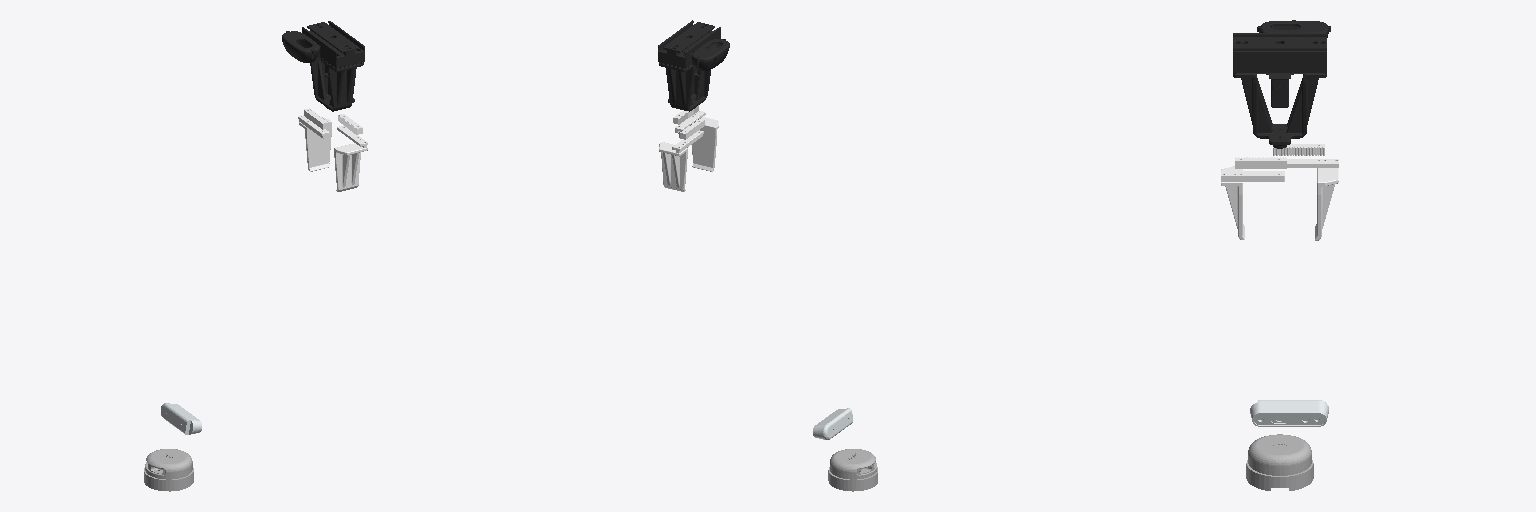
URDF robot description (robot_description):
<?xml version="1.0" encoding="utf-8"?>
<!-- This URDF was automatically created by SolidWorks to URDF Exporter! Originally created by Stephen Brawner (brawner@gmail.com) 
     Commit Version: 1.6.0-4-g7f85cfe  Build Version: 1.6.7995.38578
     For more information, please see http://wiki.ros.org/sw_urdf_exporter -->
<robot
  name="robot_description">
  <link name="base_footprint"/>

  <joint name="base_footprint_joint" type="fixed">
    <origin xyz="0 0 0.144" rpy="0 0 0" />
    <parent link="base_footprint" />
    <child link="base_link" />
  </joint>
  <link
    name="base_link">
    <inertial>
      <origin
        xyz="-0.19682 -0.0081466 0.074044"
        rpy="0 0 0" />
      <mass
        value="3.6752" />
      <inertia
        ixx="0.007798"
        ixy="2.3508E-05"
        ixz="-0.00067159"
        iyy="0.017951"
        iyz="-2.0373E-06"
        izz="0.023321" />
    </inertial>
    <visual>
      <origin
        xyz="0 0 0"
        rpy="0 0 0" />
      <geometry>
        <mesh
          filename="package://robot_description/meshes/base_link.STL" />
      </geometry>
      <material
        name="">
        <color
          rgba="0.52549 0.52549 0.52549 1" />
      </material>
    </visual>
    <collision>
      <origin
        xyz="0 0 0"
        rpy="0 0 0" />
      <geometry>
        <mesh
          filename="package://robot_description/meshes/base_link.STL" />
      </geometry>
    </collision>
  </link>
  <link
    name="plat_link">
    <inertial>
      <origin
        xyz="0.00099086 -1.3909E-06 0.20885"
        rpy="0 0 0" />
      <mass
        value="0.64412" />
      <inertia
        ixx="0.003989"
        ixy="4.8134E-10"
        ixz="8.3528E-06"
        iyy="0.0039716"
        iyz="1.7874E-10"
        izz="0.00091739" />
    </inertial>
    <visual>
      <origin
        xyz="0 0 0"
        rpy="0 0 0" />
      <geometry>
        <mesh
          filename="package://robot_description/meshes/plat_link.STL" />
      </geometry>
      <material
        name="">
        <color
          rgba="1 1 1 1" />
      </material>
    </visual>
    <collision>
      <origin
        xyz="0 0 0"
        rpy="0 0 0" />
      <geometry>
        <mesh
          filename="package://robot_description/meshes/plat_link.STL" />
      </geometry>
    </collision>
  </link>
  <joint
    name="plat_joint"
    type="revolute">
    <origin
      xyz="0 0 0"
      rpy="0 0 0" />
    <parent
      link="base_link" />
    <child
      link="plat_link" />
    <axis
      xyz="0 0 1" />
    <limit
      lower="-3.4034"
      upper="3.4034"
      effort="100"
      velocity="0.7854" />
  </joint>
  <link
    name="manip_link">
    <inertial>
      <origin
        xyz="0.076517 -0.0013059 0.097761"
        rpy="0 0 0" />
      <mass
        value="0.36819" />
      <inertia
        ixx="0.00035713"
        ixy="1.0767E-06"
        ixz="-2.4262E-06"
        iyy="0.00049034"
        iyz="-9.4946E-07"
        izz="0.00074443" />
    </inertial>
    <visual>
      <origin
        xyz="0 0 0"
        rpy="0 0 0" />
      <geometry>
        <mesh
          filename="package://robot_description/meshes/manip_link.STL" />
      </geometry>
      <material
        name="">
        <color
          rgba="0.78039 0.76078 0.74118 1" />
      </material>
    </visual>
    <collision>
      <origin
        xyz="0 0 0"
        rpy="0 0 0" />
      <geometry>
        <mesh
          filename="package://robot_description/meshes/manip_link.STL" />
      </geometry>
    </collision>
  </link>
  <joint
    name="manip_joint"
    type="prismatic">
    <origin
      xyz="0 0 0"
      rpy="0 0 0" />
    <parent
      link="plat_link" />
    <child
      link="manip_link" />
    <axis
      xyz="0 0 1" />
    <limit
      lower="0.075"
      upper="0.51"
      effort="100"
      velocity="0.0435" />
  </joint>
  <link
    name="pulso_link">
    <inertial>
      <origin
        xyz="0.0086943 -0.0041036 0.058037"
        rpy="0 0 0" />
      <mass
        value="0.21268" />
      <inertia
        ixx="0.00017045"
        ixy="5.2882E-06"
        ixz="-7.2239E-07"
        iyy="9.9587E-05"
        iyz="-4.4711E-07"
        izz="0.00016302" />
    </inertial>
    <visual>
      <origin
        xyz="0 0 0"
        rpy="0 0 0" />
      <geometry>
        <mesh
          filename="package://robot_description/meshes/pulso_link.STL" />
      </geometry>
      <material
        name="">
        <color
          rgba="0.22353 0.22353 0.22353 1" />
      </material>
    </visual>
    <collision>
      <origin
        xyz="0 0 0"
        rpy="0 0 0" />
      <geometry>
        <mesh
          filename="package://robot_description/meshes/pulso_link.STL" />
      </geometry>
    </collision>
  </link>
  <joint
    name="pulso_joint"
    type="revolute">
    <origin
      xyz="0.325 0 0.07557"
      rpy="-3.1416 0 3.14159" />
    <parent
      link="manip_link" />
    <child
      link="pulso_link" />
    <axis
      xyz="0 0 1" />
    <limit
      lower="-1.5708"
      upper="1.5708"
      effort="100"
      velocity="1.5708" />
  </joint>
  <link
    name="garra1_link">
    <inertial>
      <origin
        xyz="-0.0011844 -0.041008 0.044682"
        rpy="0 0 0" />
      <mass
        value="0.038406" />
      <inertia
        ixx="3.7119E-05"
        ixy="1.1462E-06"
        ixz="-2.0278E-06"
        iyy="3.7808E-05"
        iyz="1.4488E-06"
        izz="8.151E-06" />
    </inertial>
    <visual>
      <origin
        xyz="0 0 0"
        rpy="0 0 0" />
      <geometry>
        <mesh
          filename="package://robot_description/meshes/garra1_link.STL" />
      </geometry>
      <material
        name="">
        <color
          rgba="1 1 1 1" />
      </material>
    </visual>
    <collision>
      <origin
        xyz="0 0 0"
        rpy="0 0 0" />
      <geometry>
        <mesh
          filename="package://robot_description/meshes/garra1_link.STL" />
      </geometry>
    </collision>
  </link>
  <joint
    name="garra1_joint"
    type="prismatic">
    <origin
      xyz="0 0 0.0794"
      rpy="0 0 0" />
    <parent
      link="pulso_link" />
    <child
      link="garra1_link" />
    <axis
      xyz="0 1 0" />
    <limit
      lower="-0.035"
      upper="0"
      effort="100"
      velocity="0.035" />
  </joint>
  <link
    name="garra2_link">
    <inertial>
      <origin
        xyz="0.0011844 0.041111 0.044682"
        rpy="0 0 0" />
      <mass
        value="0.038406" />
      <inertia
        ixx="3.7119E-05"
        ixy="1.1462E-06"
        ixz="2.0278E-06"
        iyy="3.7808E-05"
        iyz="-1.4488E-06"
        izz="8.151E-06" />
    </inertial>
    <visual>
      <origin
        xyz="0 0 0"
        rpy="0 0 0" />
      <geometry>
        <mesh
          filename="package://robot_description/meshes/garra2_link.STL" />
      </geometry>
      <material
        name="">
        <color
          rgba="1 1 1 1" />
      </material>
    </visual>
    <collision>
      <origin
        xyz="0 0 0"
        rpy="0 0 0" />
      <geometry>
        <mesh
          filename="package://robot_description/meshes/garra2_link.STL" />
      </geometry>
    </collision>
  </link>
  <joint
    name="garra2_joint"
    type="prismatic">
    <origin
      xyz="0 0 0.0794"
      rpy="0 0 0" />
    <parent
      link="pulso_link" />
    <child
      link="garra2_link" />
    <axis
      xyz="0 1 0" />
    <limit
      lower="0"
      upper="0.035"
      effort="100"
      velocity="0.035" />
  </joint>
  <link
    name="camera_link">
    <inertial>
      <origin
        xyz="-0.013512 0.0009328 6.2629E-07"
        rpy="0 0 0" />
      <mass
        value="0.087339" />
      <inertia
        ixx="5.2376E-05"
        ixy="5.8423E-07"
        ixz="1.5739E-12"
        iyy="7.6539E-06"
        iyz="-8.6011E-11"
        izz="5.2721E-05" />
    </inertial>
    <visual>
      <origin
        xyz="0 0 0"
        rpy="0 0 0" />
      <geometry>
        <mesh
          filename="package://robot_description/meshes/realsense_link.STL" />
      </geometry>
      <material
        name="">
        <color
          rgba="0.89804 0.92157 0.92941 1" />
      </material>
    </visual>
    <collision>
      <origin
        xyz="0 0 0"
        rpy="0 0 0" />
      <geometry>
        <mesh
          filename="package://robot_description/meshes/realsense_link.STL" />
      </geometry>
    </collision>
  </link>
  <joint
    name="camera_joint"
    type="fixed">
    <origin
      xyz="0.072916 0 -0.058189"
      rpy="0 0.17453 0" />
    <parent
      link="base_link" />
    <child
      link="camera_link" />
    <axis
      xyz="0 0 0" />
  </joint>

  <link
    name="laser">
    <inertial>
      <origin
        xyz="-0.00056545 1.4938E-05 0.011701"
        rpy="0 0 1.57" />
      <mass
        value="0.16538" />
      <inertia
        ixx="7.8865E-05"
        ixy="-4.8472E-08"
        ixz="-2.1848E-06"
        iyy="7.519E-05"
        iyz="2.886E-08"
        izz="0.00010995" />
    </inertial>
    <visual>
      <origin
        xyz="0 0 0"
        rpy="0 0 0" />
      <geometry>
        <mesh
          filename="package://robot_description/meshes/lidar_link.STL" />
      </geometry>
      <material
        name="">
        <color
          rgba="0.75294 0.75294 0.75294 0.4" />
      </material>
    </visual>
    <collision>
      <origin
        xyz="0 0 0"
        rpy="0 0 0" />
      <geometry>
        <mesh
          filename="package://robot_description/meshes/lidar_link.STL" />
      </geometry>
    </collision>
  </link>
  <joint
    name="lidar_joint"
    type="fixed">
    <origin xyz="0.036445 0 -0.119" rpy="0 0 3.14159" />
    <parent
      link="base_link" />
    <child
      link="laser" />
    <axis
      xyz="0 0 0" />
  </joint>
</robot>

--- What the picture shows (computed from the rendered views, not written in the file) ---
Views: 3 orthographic renders of the robot side by side, from view 1: azimuth 30°, elevation 25°; view 2: azimuth 150°, elevation 25°; view 3: azimuth 270°, elevation 25°.
Robot: robot_description — 9 links, 8 joints (2 revolute, 3 prismatic, 3 fixed); root link base_footprint; default pose: all joints at 0 but 1 set to mid-range because 0 is outside their limits (manip_joint = 0.2925).
Visible links, largest first — view 1: pulso_link, laser, garra1_link, garra2_link, camera_link; view 2: pulso_link, laser, garra2_link, garra1_link, camera_link; view 3: pulso_link, laser, garra1_link, camera_link, garra2_link.
Link boxes in pixels (x1,y1,x2,y2): pulso_link: (282,21,364,111); laser: (144,449,193,491); garra1_link: (334,114,367,191); garra2_link: (298,108,331,171); camera_link: (161,403,201,434); pulso_link: (658,20,729,111); laser: (828,449,877,491); garra2_link: (659,119,704,191); garra1_link: (673,105,718,171); camera_link: (813,408,852,439); pulso_link: (1233,20,1330,148); laser: (1246,434,1313,490); garra1_link: (1221,157,1286,239); camera_link: (1250,400,1328,426); garra2_link: (1273,144,1338,240).
Size in the robot's own frame: 0.3661 by 0.1344 by 0.6784 metres.
5 mesh visuals loaded from 8 distinct referenced files (5 binary STL); not drawn: 3 (reference not matched to a file when rendering).
